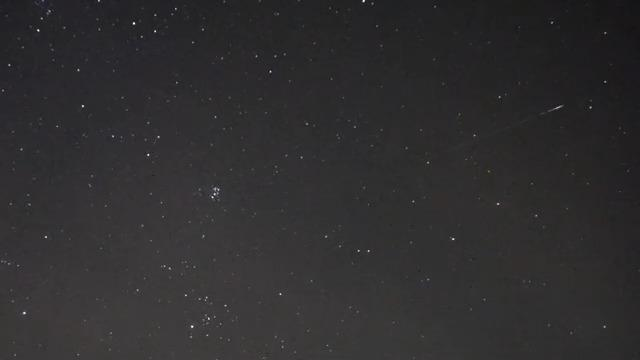meteorite: (505, 101, 587, 119)
